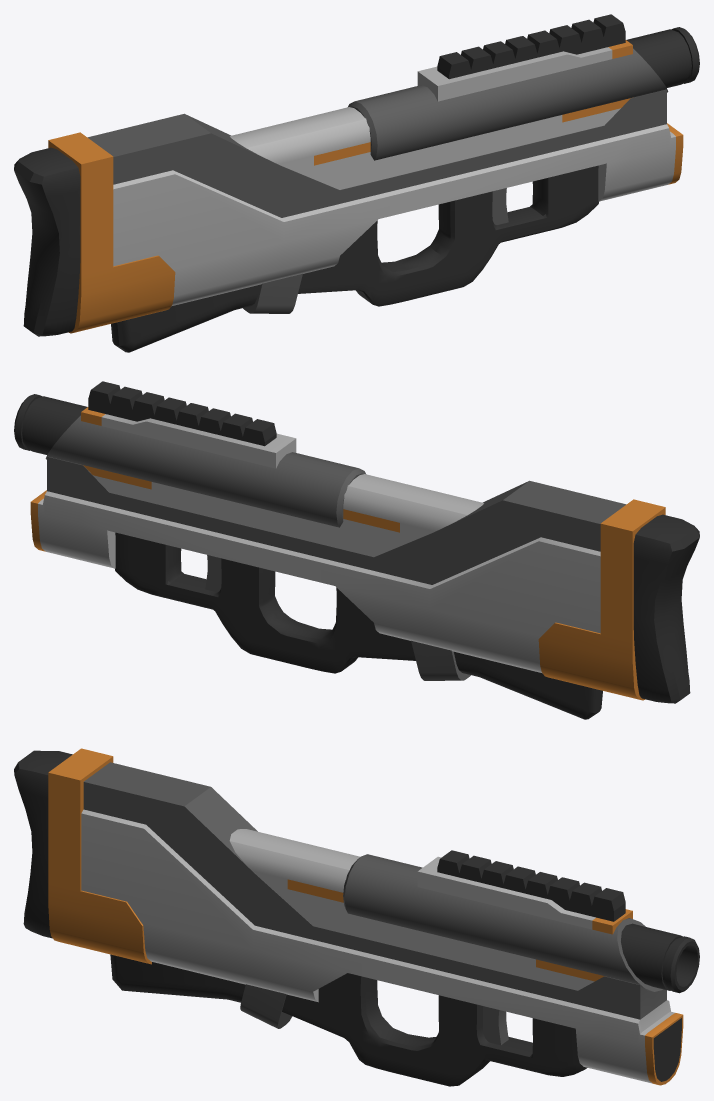
File: Grenade_3.gltf
3 views of the same model, one above another, from view 1: azimuth 30°, elevation 25°; view 2: azimuth 150°, elevation 25°; view 3: azimuth 330°, elevation 25° (orthographic).
Parts seen in each view (by area): view 1: Grenade_3; view 2: Grenade_3; view 3: Grenade_3.
Boxes of the visible parts, x1,y1,x2,y2 form: Grenade_3: (14,14,699,352); Grenade_3: (14,381,699,719); Grenade_3: (14,748,699,1086).
Bounding box in the file's own units: 1.69 × 0.5475 × 0.1459.
